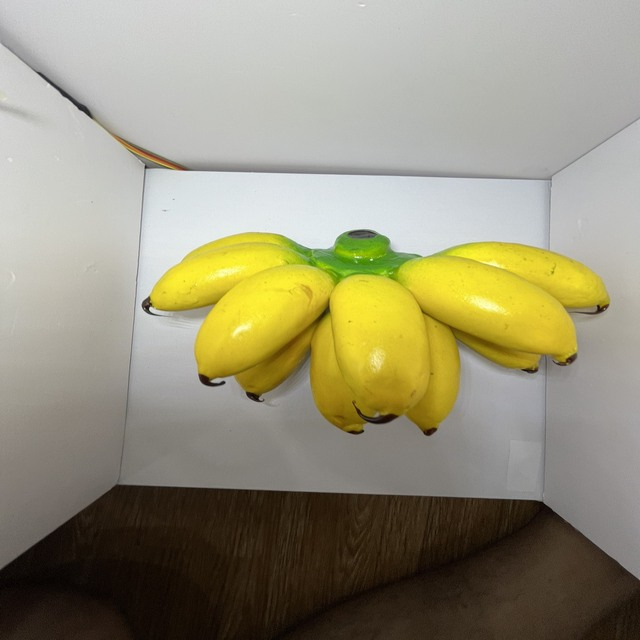Chuoi: (138, 226, 616, 443)
